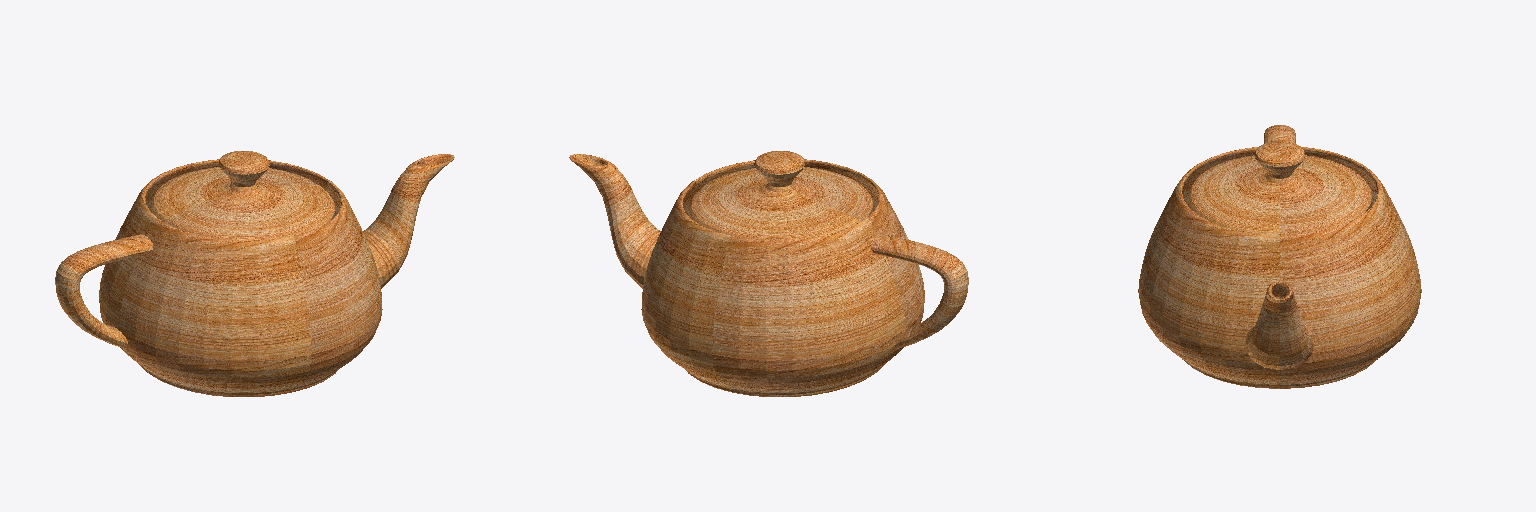
3 views of the same model, side by side, from view 1: azimuth 30°, elevation 25°; view 2: azimuth 150°, elevation 25°; view 3: azimuth 270°, elevation 25° (orthographic).
Visible parts, largest first — view 1: Teapot001; view 2: Teapot001; view 3: Teapot001.
Boxes of the visible parts, x1,y1,x2,y2 form: Teapot001: [55, 151, 454, 396]; Teapot001: [569, 151, 968, 396]; Teapot001: [1138, 125, 1421, 388].
Bounding box in the file's own units: 90.75 × 44.44 × 56.29.
1 materials, 1 textured.